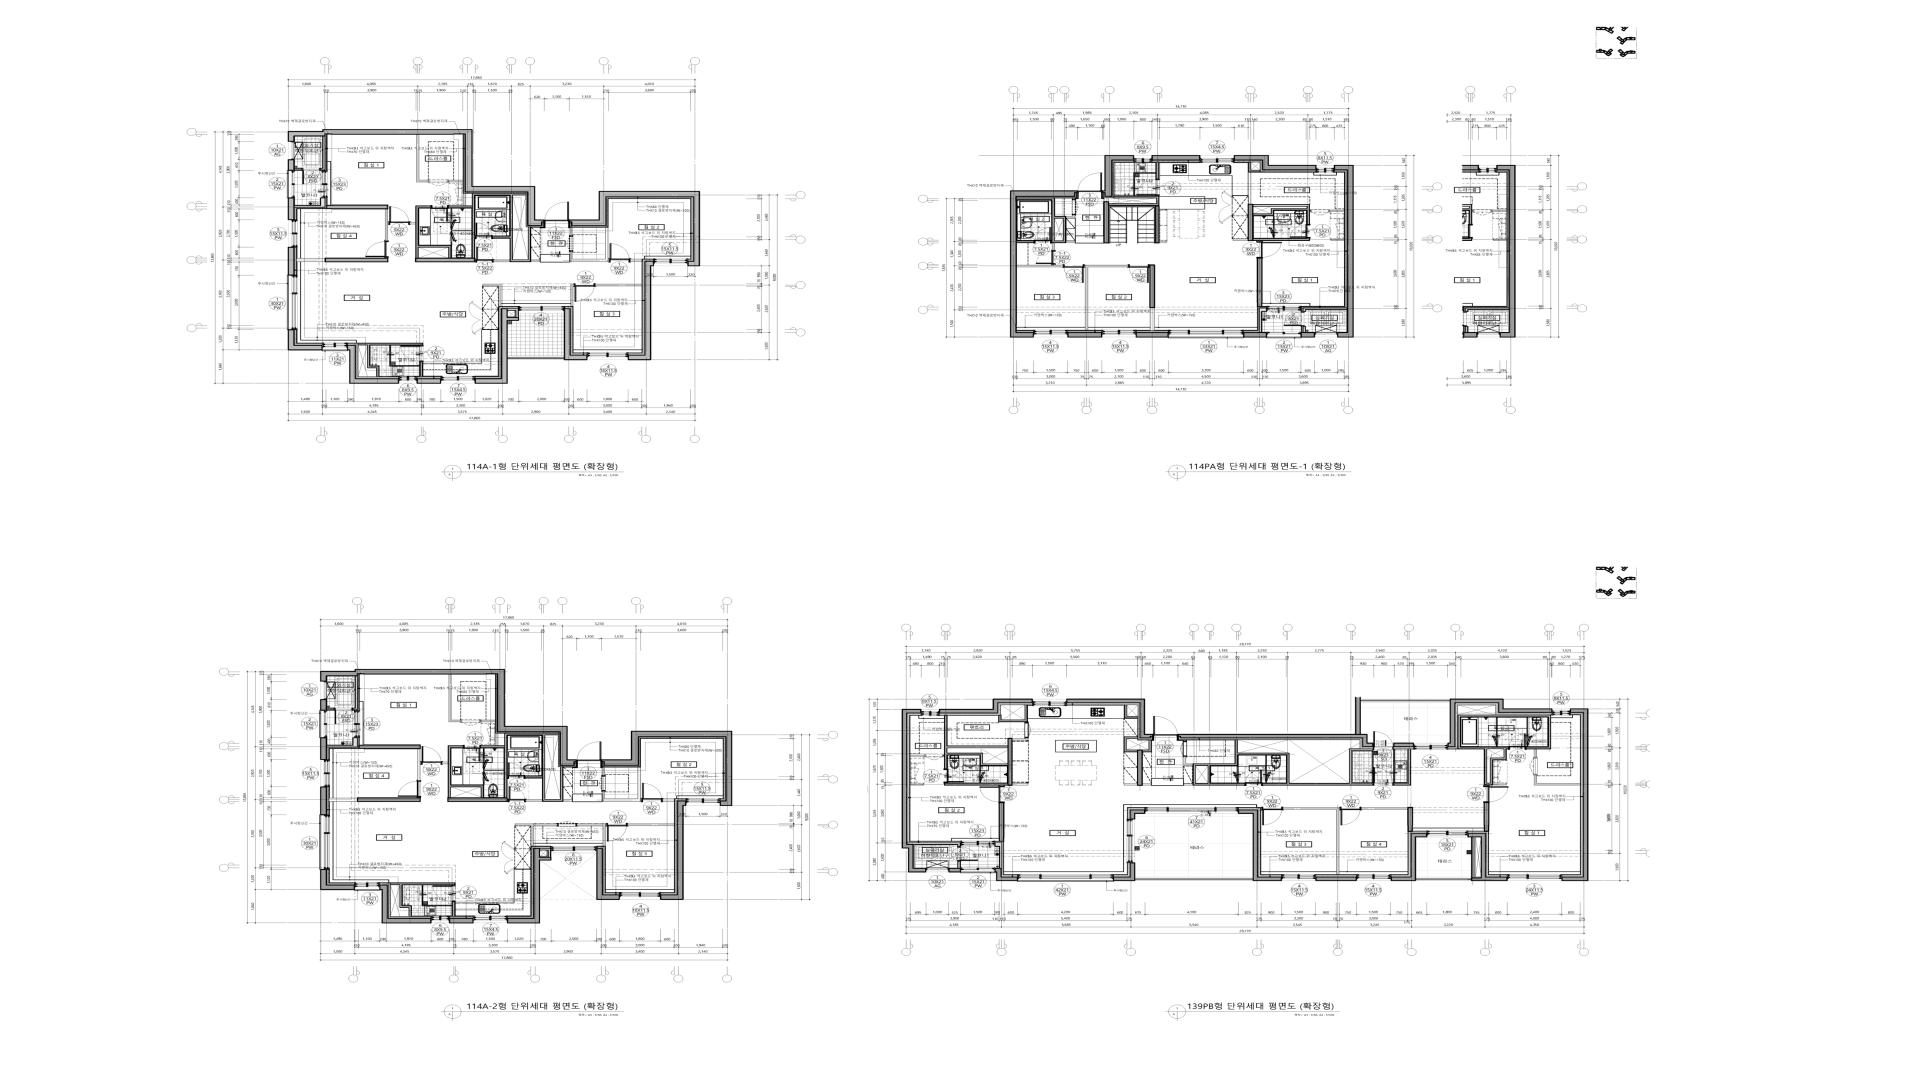door: (576, 741, 601, 767), (1077, 173, 1102, 199), (543, 203, 570, 228), (1153, 716, 1178, 741), (1063, 264, 1085, 284), (608, 243, 630, 262), (1484, 786, 1509, 803), (980, 786, 1005, 803), (1257, 241, 1282, 258), (1129, 264, 1150, 284), (605, 823, 628, 841), (1261, 807, 1283, 825), (400, 345, 423, 363), (421, 746, 442, 765), (641, 783, 662, 802), (1340, 807, 1361, 825), (1373, 767, 1394, 786), (1373, 732, 1394, 750), (388, 207, 409, 225), (574, 284, 595, 302), (433, 885, 455, 902), (398, 781, 421, 798), (1137, 179, 1160, 195), (365, 241, 389, 257), (463, 745, 481, 762), (475, 223, 493, 240), (302, 167, 320, 185), (943, 769, 964, 783), (957, 847, 978, 861), (1290, 224, 1311, 239), (508, 762, 525, 779), (1509, 733, 1526, 750), (1034, 227, 1051, 244), (508, 786, 526, 802), (475, 247, 493, 262), (1036, 251, 1056, 265), (1284, 313, 1305, 326), (335, 708, 352, 724), (1245, 770, 1262, 786), (431, 206, 448, 222), (1530, 758, 1538, 775), (924, 754, 944, 761), (429, 179, 448, 186), (1311, 210, 1329, 216), (460, 720, 481, 725), (1025, 723, 1031, 738), (558, 822, 576, 827)
wall: (320, 669, 576, 766), (287, 129, 543, 225), (1010, 190, 1077, 338), (601, 731, 732, 806), (570, 191, 700, 266), (1178, 698, 1373, 748), (1184, 740, 1373, 786), (1458, 715, 1551, 786), (481, 733, 572, 802), (448, 194, 539, 262), (1448, 699, 1552, 748), (1561, 708, 1589, 881), (902, 709, 926, 873), (1283, 807, 1340, 874), (944, 715, 1007, 769), (1335, 165, 1354, 338), (1067, 699, 1153, 738), (506, 848, 551, 923), (475, 309, 520, 384), (1238, 810, 1282, 881), (1017, 198, 1075, 251), (1085, 265, 1129, 330), (659, 800, 686, 901), (628, 261, 654, 360), (409, 206, 452, 257), (442, 745, 484, 798), (390, 882, 455, 916), (359, 343, 423, 377), (347, 345, 400, 384), (380, 885, 431, 923), (1468, 833, 1507, 881), (1391, 833, 1427, 881), (939, 699, 1033, 713), (603, 767, 641, 802), (570, 228, 608, 262), (1102, 156, 1134, 196), (596, 848, 620, 901), (564, 309, 588, 360), (1234, 156, 1316, 170), (1254, 204, 1311, 224), (514, 824, 558, 847), (320, 869, 355, 890), (287, 330, 322, 351), (576, 824, 605, 847), (1394, 749, 1411, 786), (1109, 195, 1159, 207), (448, 674, 460, 723), (417, 135, 429, 182), (1249, 162, 1261, 204), (998, 705, 1027, 723), (1534, 775, 1580, 786), (1135, 877, 1253, 881), (1113, 862, 1135, 881), (483, 284, 501, 306), (1361, 699, 1449, 703), (326, 204, 388, 210), (327, 737, 357, 748), (415, 257, 475, 262), (996, 868, 1018, 881), (294, 198, 324, 207), (998, 803, 1005, 843), (1257, 258, 1262, 307), (1151, 156, 1200, 161), (1007, 738, 1013, 786), (357, 798, 421, 802), (324, 258, 388, 262), (359, 745, 421, 749), (1247, 204, 1254, 241), (1137, 749, 1143, 786), (447, 798, 508, 802), (1150, 265, 1155, 309), (1124, 737, 1138, 753), (1303, 307, 1346, 313), (1104, 202, 1109, 244), (1416, 877, 1472, 881), (508, 356, 563, 360), (907, 843, 961, 847), (994, 843, 1002, 868), (1259, 307, 1267, 332), (1125, 704, 1138, 719), (1484, 803, 1490, 832), (320, 786, 327, 815), (287, 247, 294, 276), (1067, 332, 1102, 338), (352, 676, 357, 711), (1135, 332, 1168, 338), (320, 137, 326, 170), (944, 783, 1007, 786), (1130, 810, 1146, 820), (1407, 807, 1414, 832), (1316, 877, 1357, 881), (1155, 206, 1159, 244), (320, 737, 327, 760), (287, 198, 294, 220), (1254, 239, 1309, 241), (448, 918, 473, 923), (417, 378, 442, 384), (1244, 332, 1267, 338), (595, 284, 642, 286), (1017, 265, 1063, 268), (1361, 807, 1407, 810), (1143, 740, 1153, 753), (1150, 309, 1155, 331), (328, 798, 357, 802), (297, 258, 324, 262), (1472, 837, 1474, 878), (1394, 742, 1414, 748), (541, 848, 551, 857), (508, 309, 518, 318), (418, 749, 421, 781), (385, 210, 388, 241), (320, 699, 327, 711), (287, 160, 294, 171), (1300, 332, 1315, 338), (451, 902, 456, 916), (948, 868, 961, 873), (628, 824, 674, 825), (571, 284, 574, 306), (419, 363, 423, 377), (630, 258, 642, 262), (1017, 240, 1034, 243), (1156, 162, 1159, 179), (1013, 783, 1029, 786), (481, 720, 496, 723), (1233, 239, 1247, 241), (1124, 783, 1137, 786), (1331, 239, 1344, 241), (496, 733, 498, 745), (662, 799, 674, 802), (957, 861, 961, 868), (295, 167, 302, 171), (603, 767, 605, 775), (1143, 783, 1151, 786), (1013, 738, 1029, 740), (570, 228, 572, 236), (1104, 198, 1109, 202), (910, 756, 924, 757), (448, 181, 463, 182), (1329, 211, 1344, 212), (910, 785, 923, 786), (327, 708, 334, 711), (1303, 326, 1305, 332), (1159, 241, 1167, 243)
window: (1018, 874, 1113, 882), (1168, 330, 1244, 339), (286, 276, 298, 330), (1146, 807, 1238, 814), (319, 815, 330, 869), (1126, 820, 1135, 862), (518, 306, 564, 314), (1507, 874, 1561, 881), (587, 352, 628, 360), (620, 891, 659, 899), (551, 847, 596, 853), (1033, 699, 1067, 707), (686, 798, 720, 806), (1200, 156, 1234, 164), (1427, 831, 1468, 837), (473, 915, 506, 923), (1102, 330, 1135, 338), (1034, 330, 1067, 338), (654, 258, 687, 266), (442, 376, 475, 384), (320, 760, 330, 786), (289, 220, 298, 247), (286, 171, 295, 198), (355, 882, 380, 891), (1414, 744, 1448, 750), (1357, 874, 1391, 881), (1282, 874, 1316, 881), (1267, 332, 1300, 339), (319, 711, 327, 737), (352, 711, 360, 737), (323, 343, 347, 351), (961, 868, 996, 873), (1267, 306, 1302, 311), (961, 841, 994, 847), (320, 171, 327, 198), (1316, 165, 1335, 173), (431, 915, 448, 923), (1134, 156, 1151, 164), (400, 376, 417, 384), (1552, 709, 1571, 716), (1315, 332, 1337, 338), (320, 682, 327, 699), (922, 709, 939, 716), (289, 142, 294, 160), (926, 868, 948, 872)
